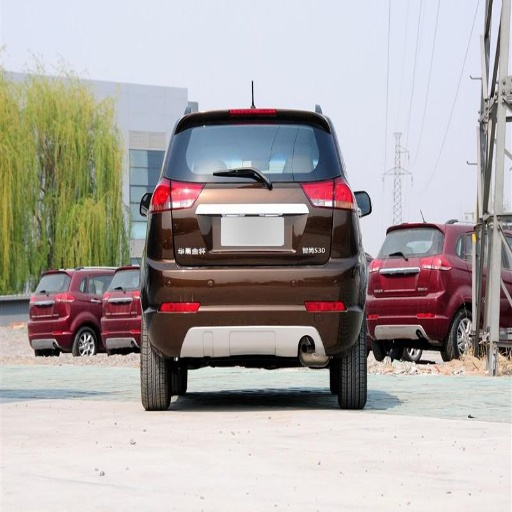back_bumper: (110, 209, 449, 362)
back_glass: (165, 120, 331, 180)
trunk: (162, 181, 337, 286)
